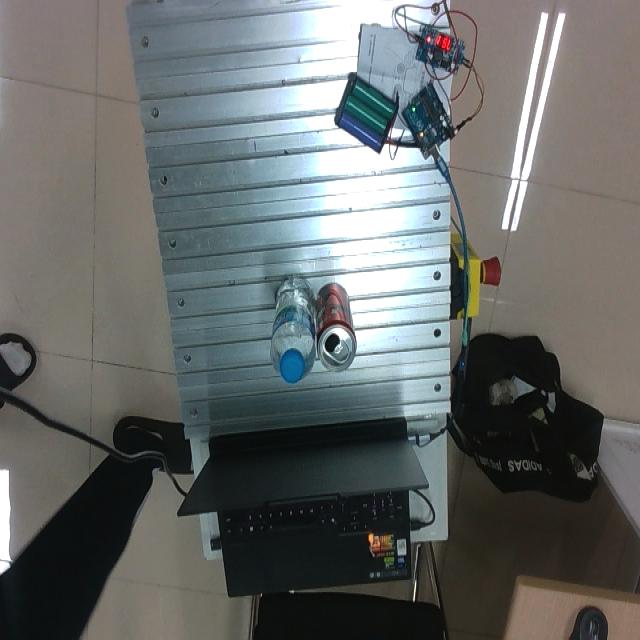coca: (316, 282, 357, 373)
lavie: (270, 278, 318, 386)
